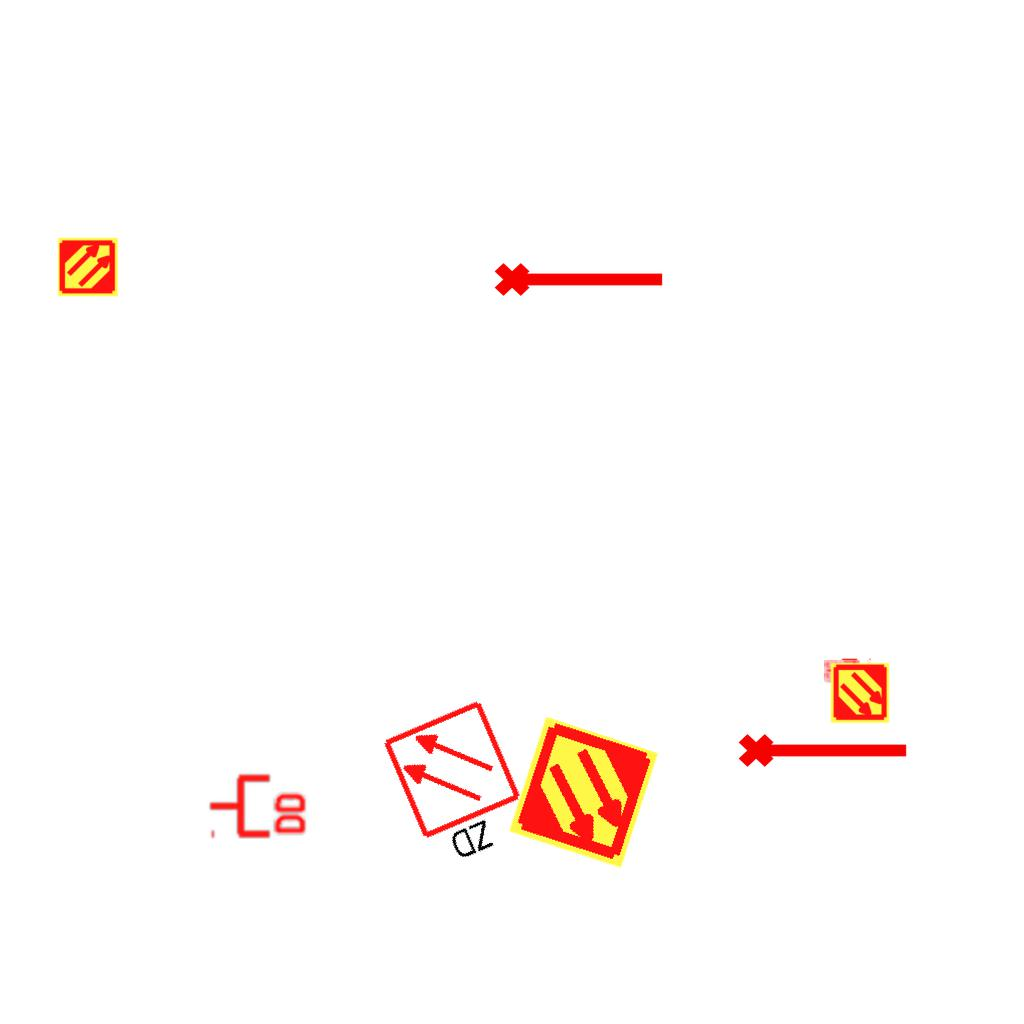ASR_Ansaugoeffnung: (736, 725, 912, 771), (492, 254, 668, 300)
ASR_Ansaugrauchmelder: (504, 713, 663, 872), (57, 236, 119, 298), (829, 662, 891, 724)
Datenanschluss_zweifach: (207, 770, 310, 839), (822, 658, 873, 692)
ZD_Melder_in_Zwischendecke_mit_Revisionsoeffnung_mind_40_x_40_cm: (379, 695, 543, 878)
